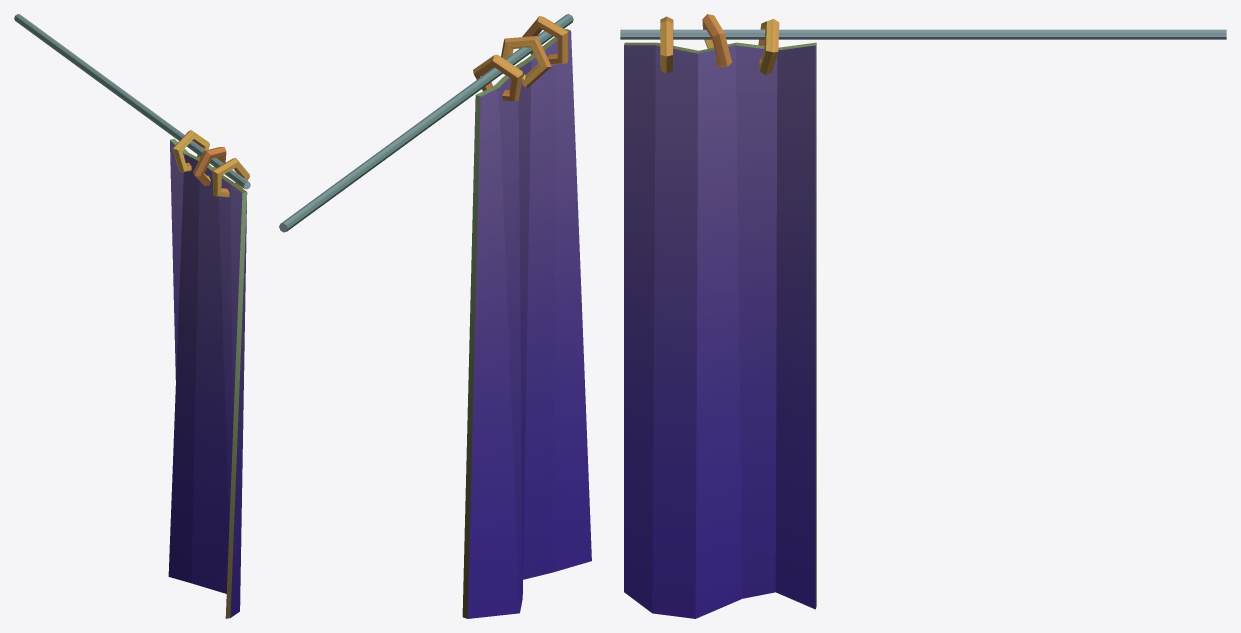
Rendered from sp_curtain_bathroom_a.fbx.
3 renders of one model, left to right at view 1: azimuth 30°, elevation 25°; view 2: azimuth 150°, elevation 25°; view 3: azimuth 270°, elevation 25°, orthographic. The views are drawn at different scales.
Parts seen in each view (by area): view 1: sp_curtain_bathroom_a; view 2: sp_curtain_bathroom_a; view 3: sp_curtain_bathroom_a.
Part boxes in pixels (x1,y1,x2,y2): sp_curtain_bathroom_a: [14, 14, 250, 618]; sp_curtain_bathroom_a: [279, 14, 591, 618]; sp_curtain_bathroom_a: [620, 14, 1226, 618].
Bounding box in the file's own units: 12.68 × 136 × 126.
